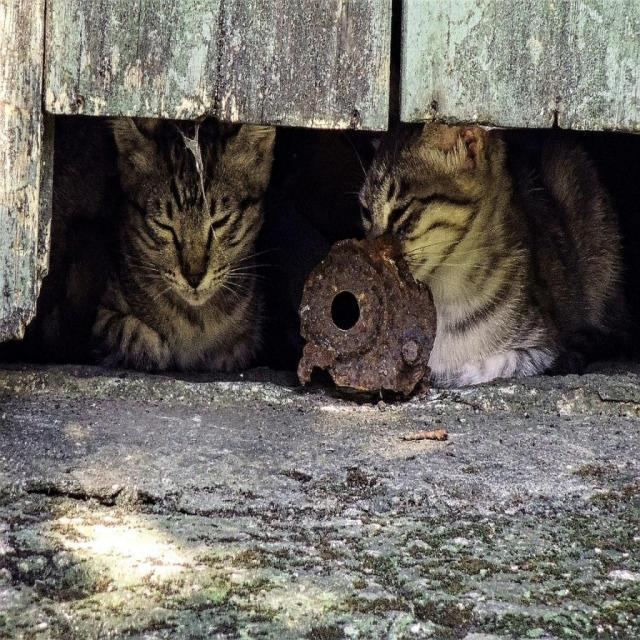cat: (360, 123, 629, 387), (92, 117, 275, 371)
